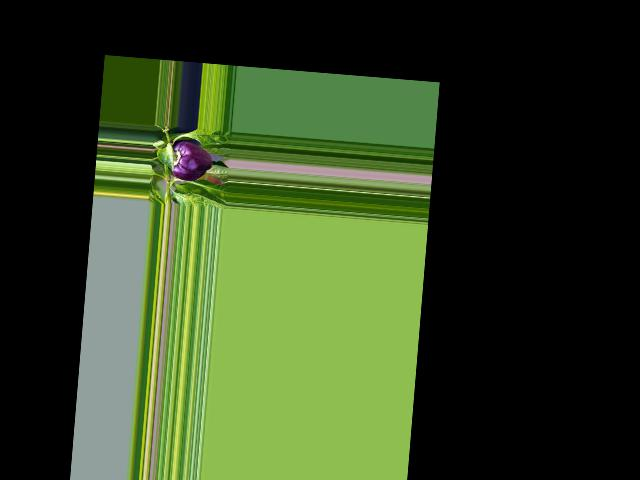bell_pepper: (166, 140, 215, 183)
